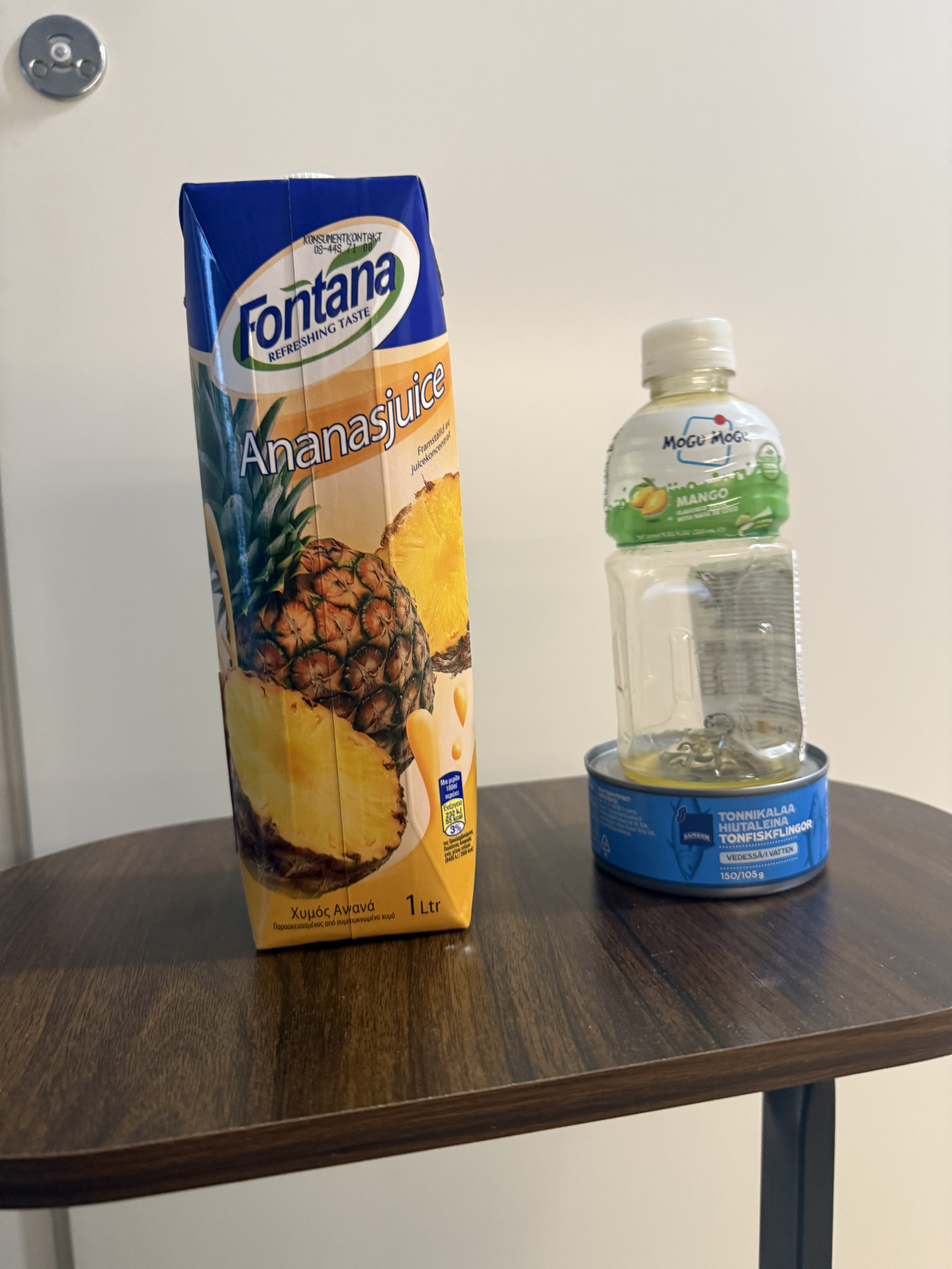Dryckeskartong: (177, 176, 489, 943)
Konservburk: (590, 778, 832, 893)
Pantburk: (597, 308, 807, 780)
